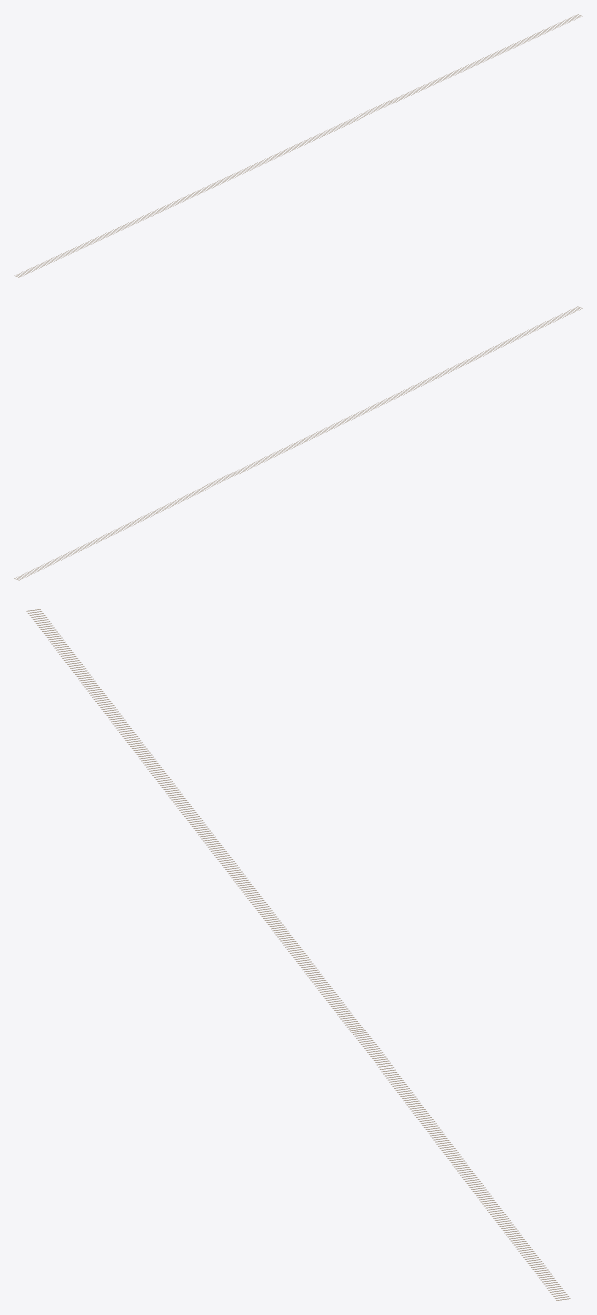
Rendered from c_1628_17828_rail_sleeper.glb.
3 views of the same model, one above another, from view 1: azimuth 30°, elevation 25°; view 2: azimuth 210°, elevation 25°; view 3: azimuth 270°, elevation 25° (orthographic). The views are drawn at different scales.
Visible parts, largest first — view 1: geometry_0; view 2: geometry_0; view 3: geometry_0.
Boxes of the visible parts, x1,y1,x2,y2 form: geometry_0: (14, 14, 582, 277); geometry_0: (14, 306, 582, 580); geometry_0: (26, 609, 570, 1300).
Bounding box in the file's own units: 256 × 1.86 × 86.57.
